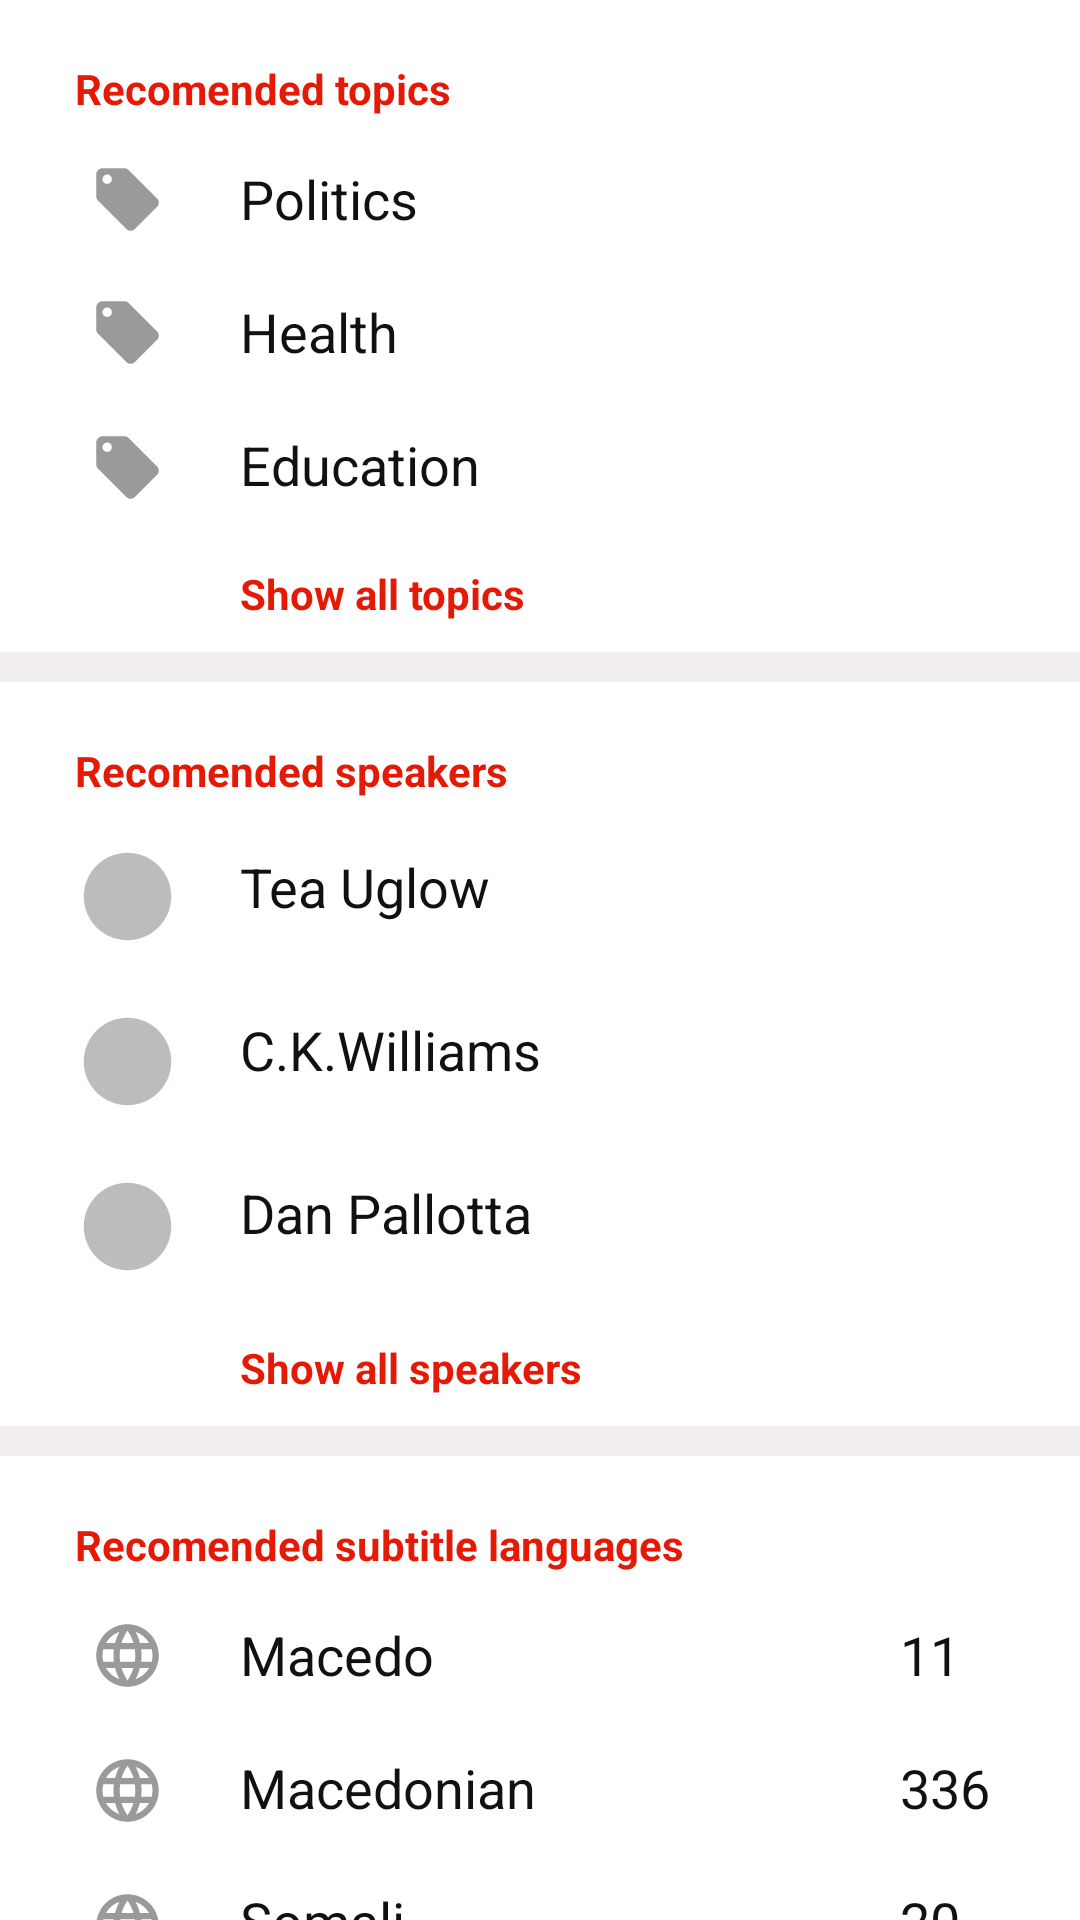

Named icons in this screenshot (1080x1920) and their centers, [x,y]:
local offer: [127,199], [127,332], [127,467]
